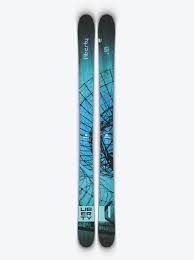skis: (75, 14, 118, 249)
